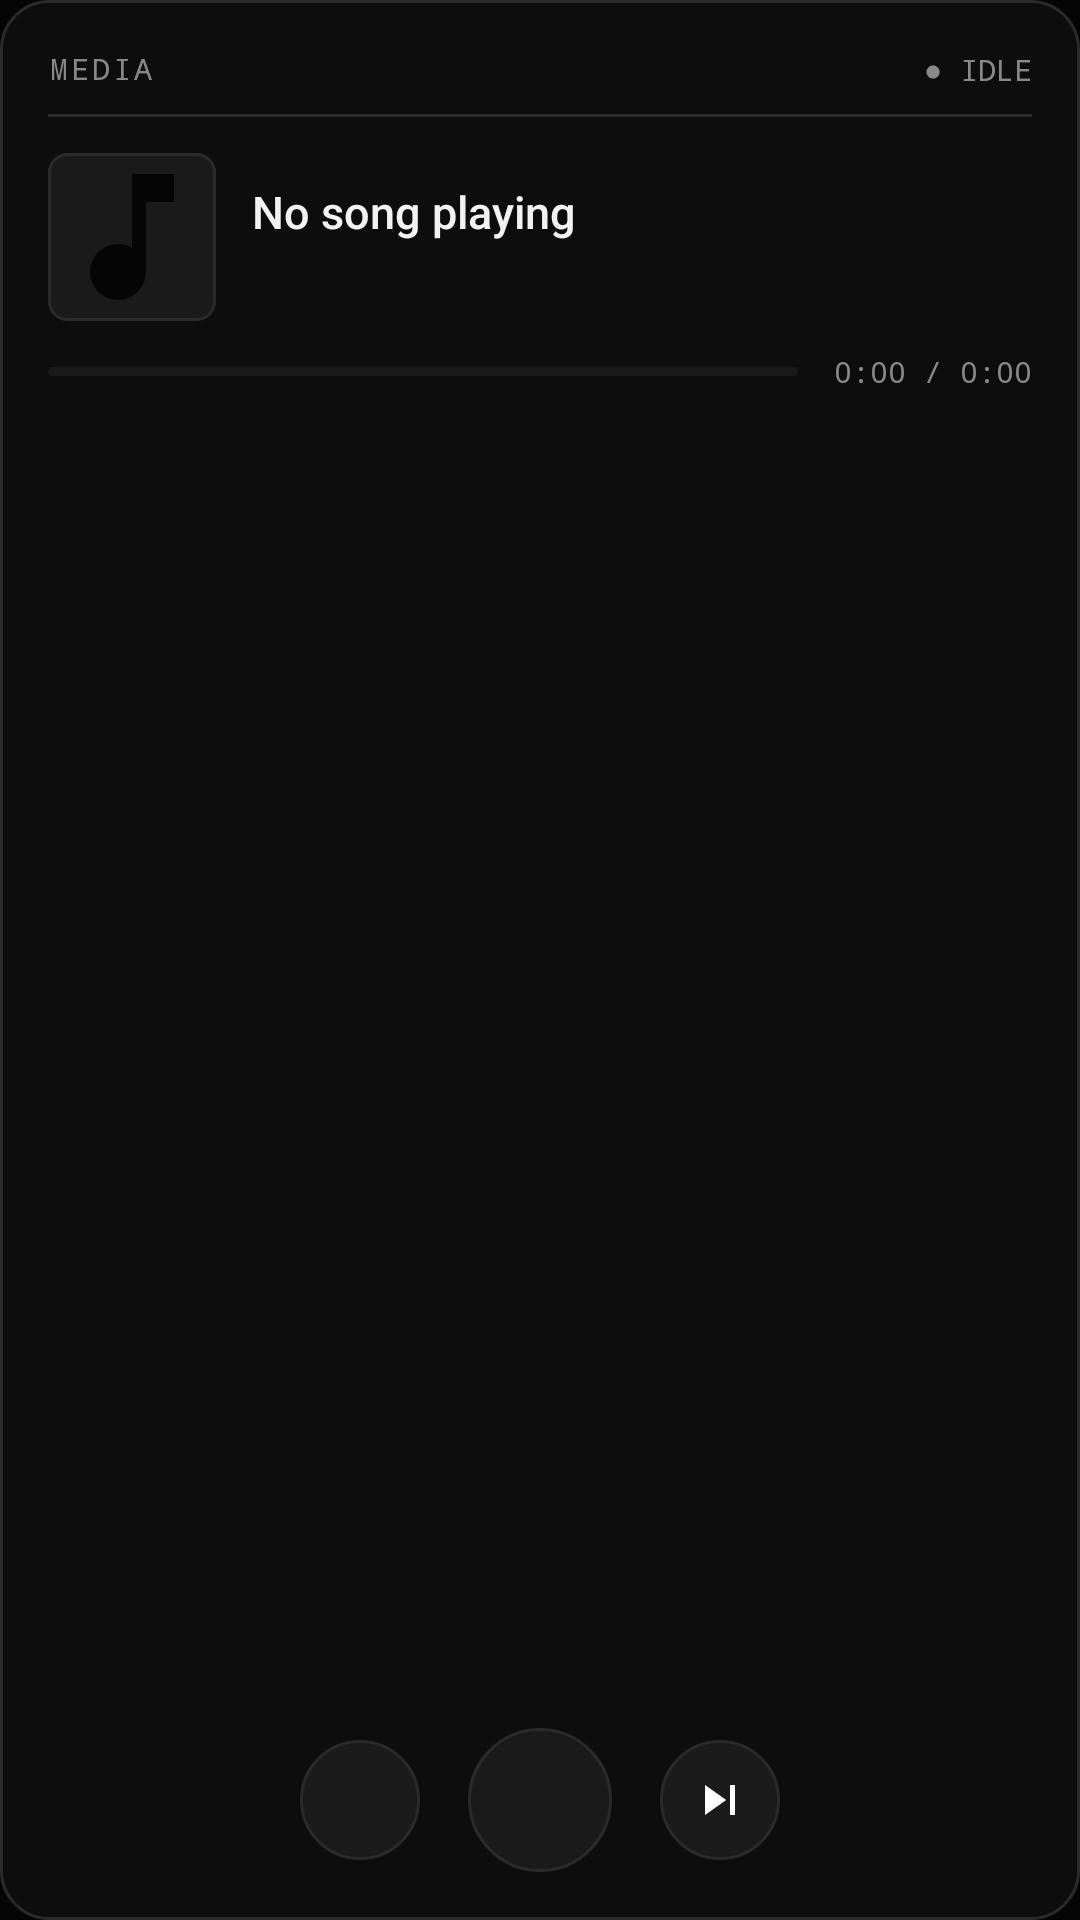

Icons on this 1080 × 1920 Android screen, each with the point to tap as [x,y]:
album: [132,237]
Next: [720,1800]
